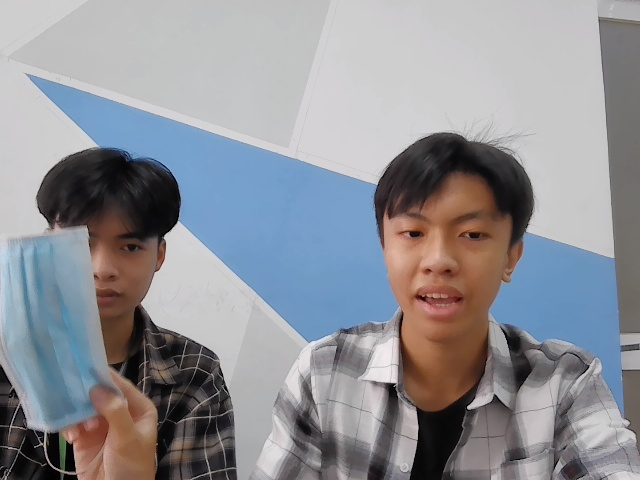human: (375, 132, 534, 343), (36, 148, 182, 318)
mask: (1, 224, 123, 431)
